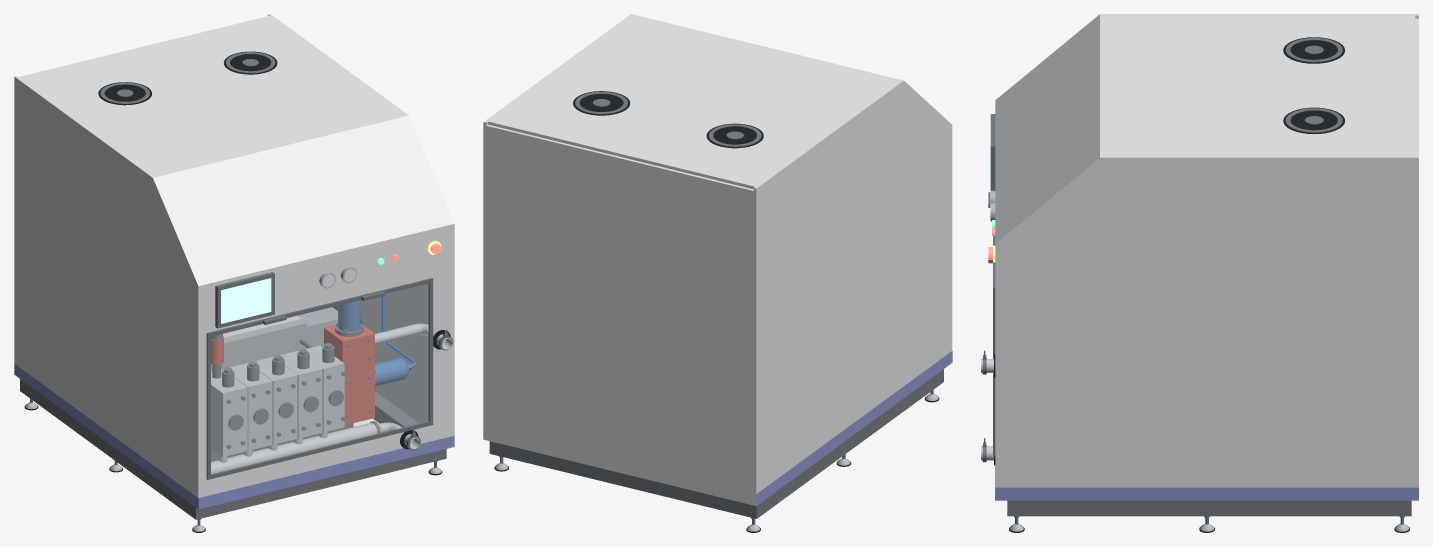
File: homogenisator.glb
The picture shows the model from 3 angles, left to right: view 1: azimuth 30°, elevation 25°; view 2: azimuth 150°, elevation 25°; view 3: azimuth 270°, elevation 25°; orthographic projection. The views are drawn at different scales.
Parts seen in each view (by area): view 1: wange_links, dach, dachschraege, schutzscheibe_glas, front_oben, pumpenblock, wange_rechts, front_unten, sockelband, laengstraeger_-1, front_rechts, quertraeger_0 (+20 smaller); view 2: rueckwand, wange_links, dach, quertraeger_2, laengstraeger_-1, sockelband_seite_-1, wange_rechts, luefter_0, luefter_1; view 3: wange_rechts, dach, dachschraege, laengstraeger_1, sockelband_seite_1, luefter_1, luefter_0, wange_links, rueckwand.
Part boxes in pixels (box(x1,y1,x2,y2)): wange_links: box(14, 76, 200, 497); dach: box(19, 16, 405, 177); dachschraege: box(156, 116, 451, 285); schutzscheibe_glas: box(211, 284, 428, 473); front_oben: box(201, 224, 451, 335); pumpenblock: box(211, 345, 344, 456); wange_rechts: box(268, 14, 454, 435); front_unten: box(201, 417, 451, 497); sockelband: box(198, 435, 454, 509); laengstraeger_-1: box(20, 379, 210, 519); front_rechts: box(433, 275, 451, 421); quertraeger_0: box(210, 452, 432, 516); rueckwand: box(486, 124, 753, 505); wange_links: box(753, 80, 952, 505); dach: box(488, 14, 900, 189); quertraeger_2: box(505, 445, 741, 515); laengstraeger_-1: box(741, 369, 943, 518); sockelband_seite_-1: box(756, 351, 952, 505); wange_rechts: box(483, 14, 633, 439); luefter_0: box(706, 123, 763, 148); luefter_1: box(573, 91, 630, 115); wange_rechts: box(995, 156, 1418, 487); dach: box(1100, 15, 1415, 156); dachschraege: box(995, 16, 1099, 242); laengstraeger_1: box(1007, 500, 1411, 516); sockelband_seite_1: box(995, 487, 1418, 500); luefter_1: box(1283, 107, 1344, 133); luefter_0: box(1283, 37, 1344, 63); wange_links: box(995, 14, 1418, 101); rueckwand: box(1415, 18, 1418, 156).
Size of the model in its own units: 1.43 by 1.75 by 1.84.
